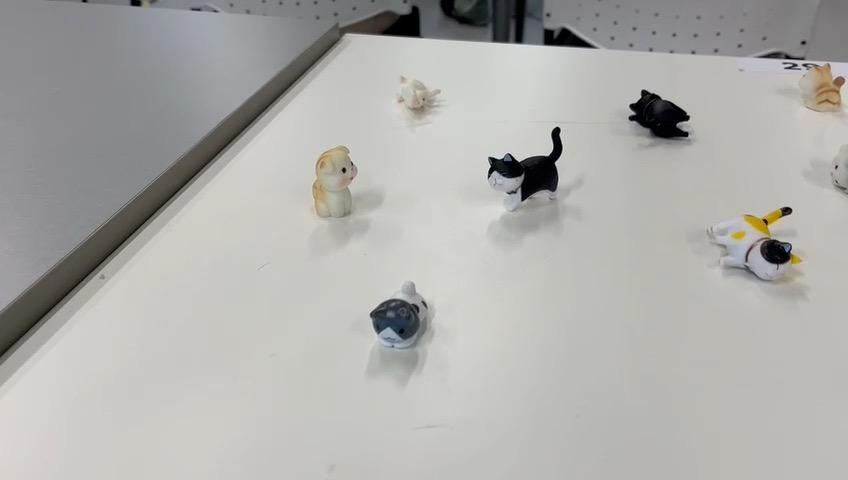pet: (706, 201, 809, 285), (478, 122, 566, 211), (367, 276, 433, 352), (623, 84, 694, 145), (308, 140, 360, 222), (799, 61, 845, 116), (393, 72, 444, 115)
